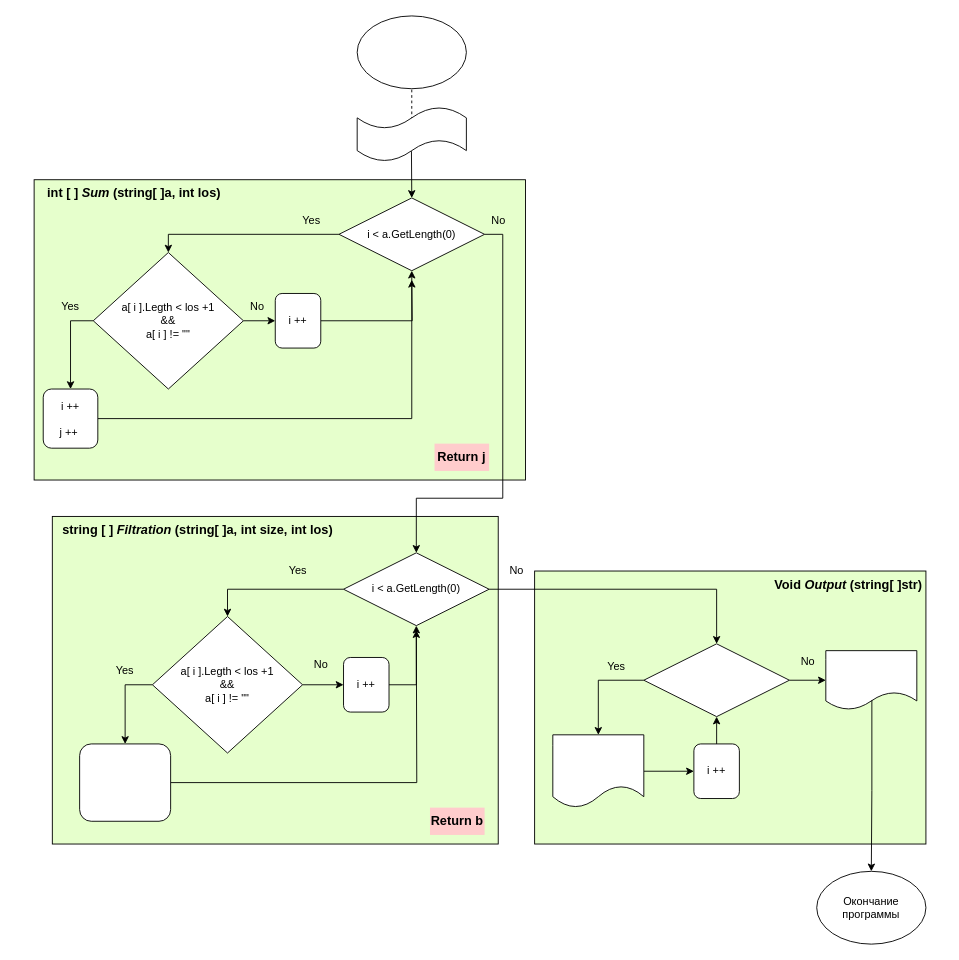
Image size: 959x960. Some labels were removed from this diagram. Each missing label, with the centre of its shape:
b[ j ] = a [ i ] i ++ j ++: point (125, 782)
Console.Write ($"\b\b. "): point (871, 680)
Console.Write ($"{str[ i ]}, "): point (598, 771)
i < str.GetLength(0): point (716, 680)
Старт программы: point (411, 52)
